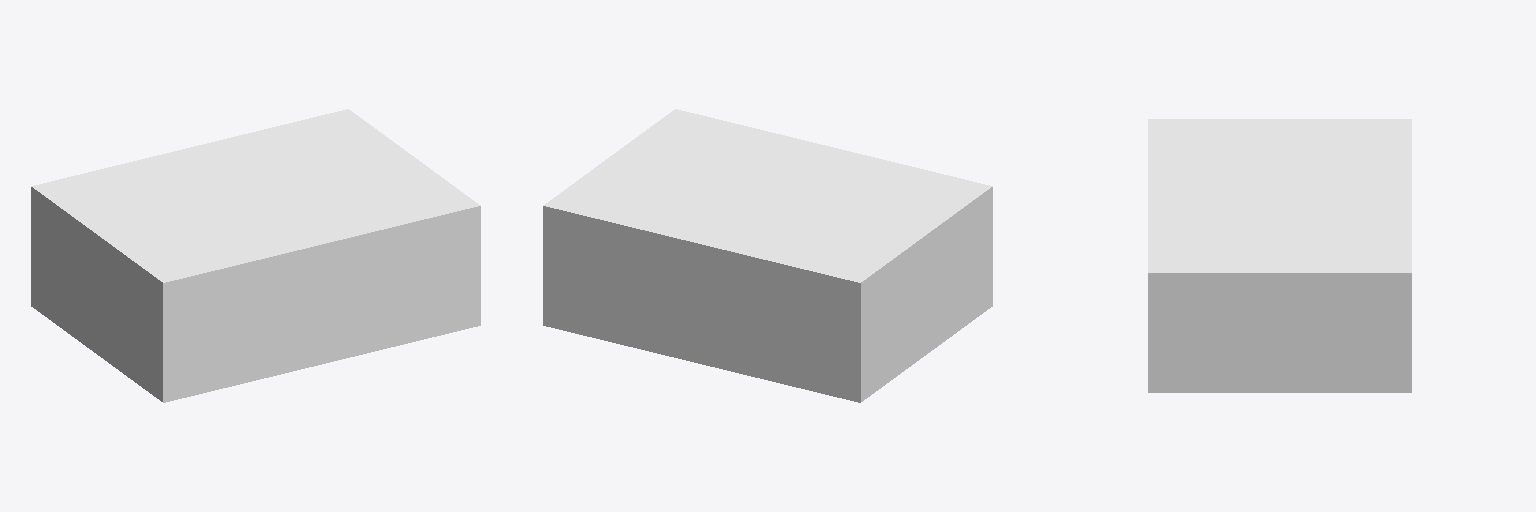
File: smallroom.obj
3 views of the same model, side by side, from view 1: azimuth 30°, elevation 25°; view 2: azimuth 150°, elevation 25°; view 3: azimuth 270°, elevation 25° (orthographic).
Parts seen in each view (by area): view 1: concretefloor01d.png, concretefloor02b.png, metal02.png; view 2: concretefloor01d.png, concretefloor02b.png, metal02.png; view 3: concretefloor02b.png, concretefloor01d.png, metal02.png.
Part boxes in pixels (x1,y1,x2,y2): concretefloor01d.png: (31,196,480,393); concretefloor02b.png: (31,109,480,291); metal02.png: (31,297,480,402); concretefloor01d.png: (543,196,992,393); concretefloor02b.png: (543,109,992,291); metal02.png: (543,297,992,402); concretefloor02b.png: (1148,119,1411,282); concretefloor01d.png: (1148,283,1411,383); metal02.png: (1148,384,1411,392).
Size of the model in its own units: 576 by 208 by 416.